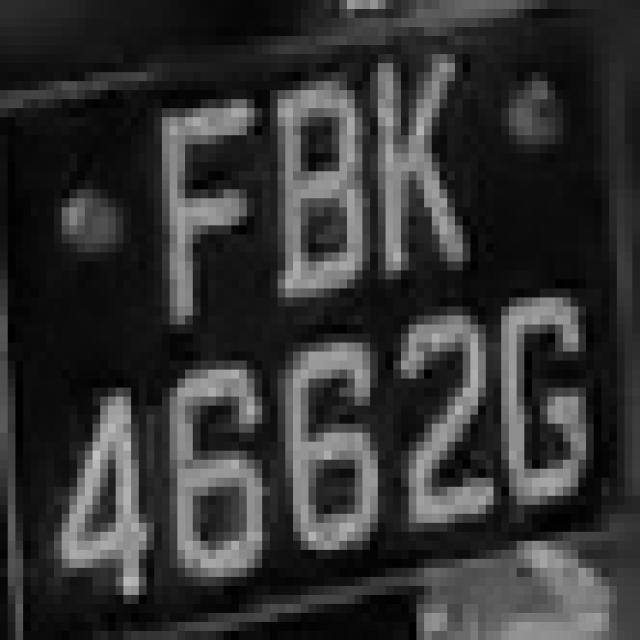2: (378, 297, 501, 550)
4: (38, 370, 162, 622)
6: (139, 333, 270, 604), (262, 333, 386, 586)
B: (262, 54, 370, 316)
F: (131, 72, 270, 316)
G: (478, 243, 594, 541)
K: (355, 18, 478, 307)
